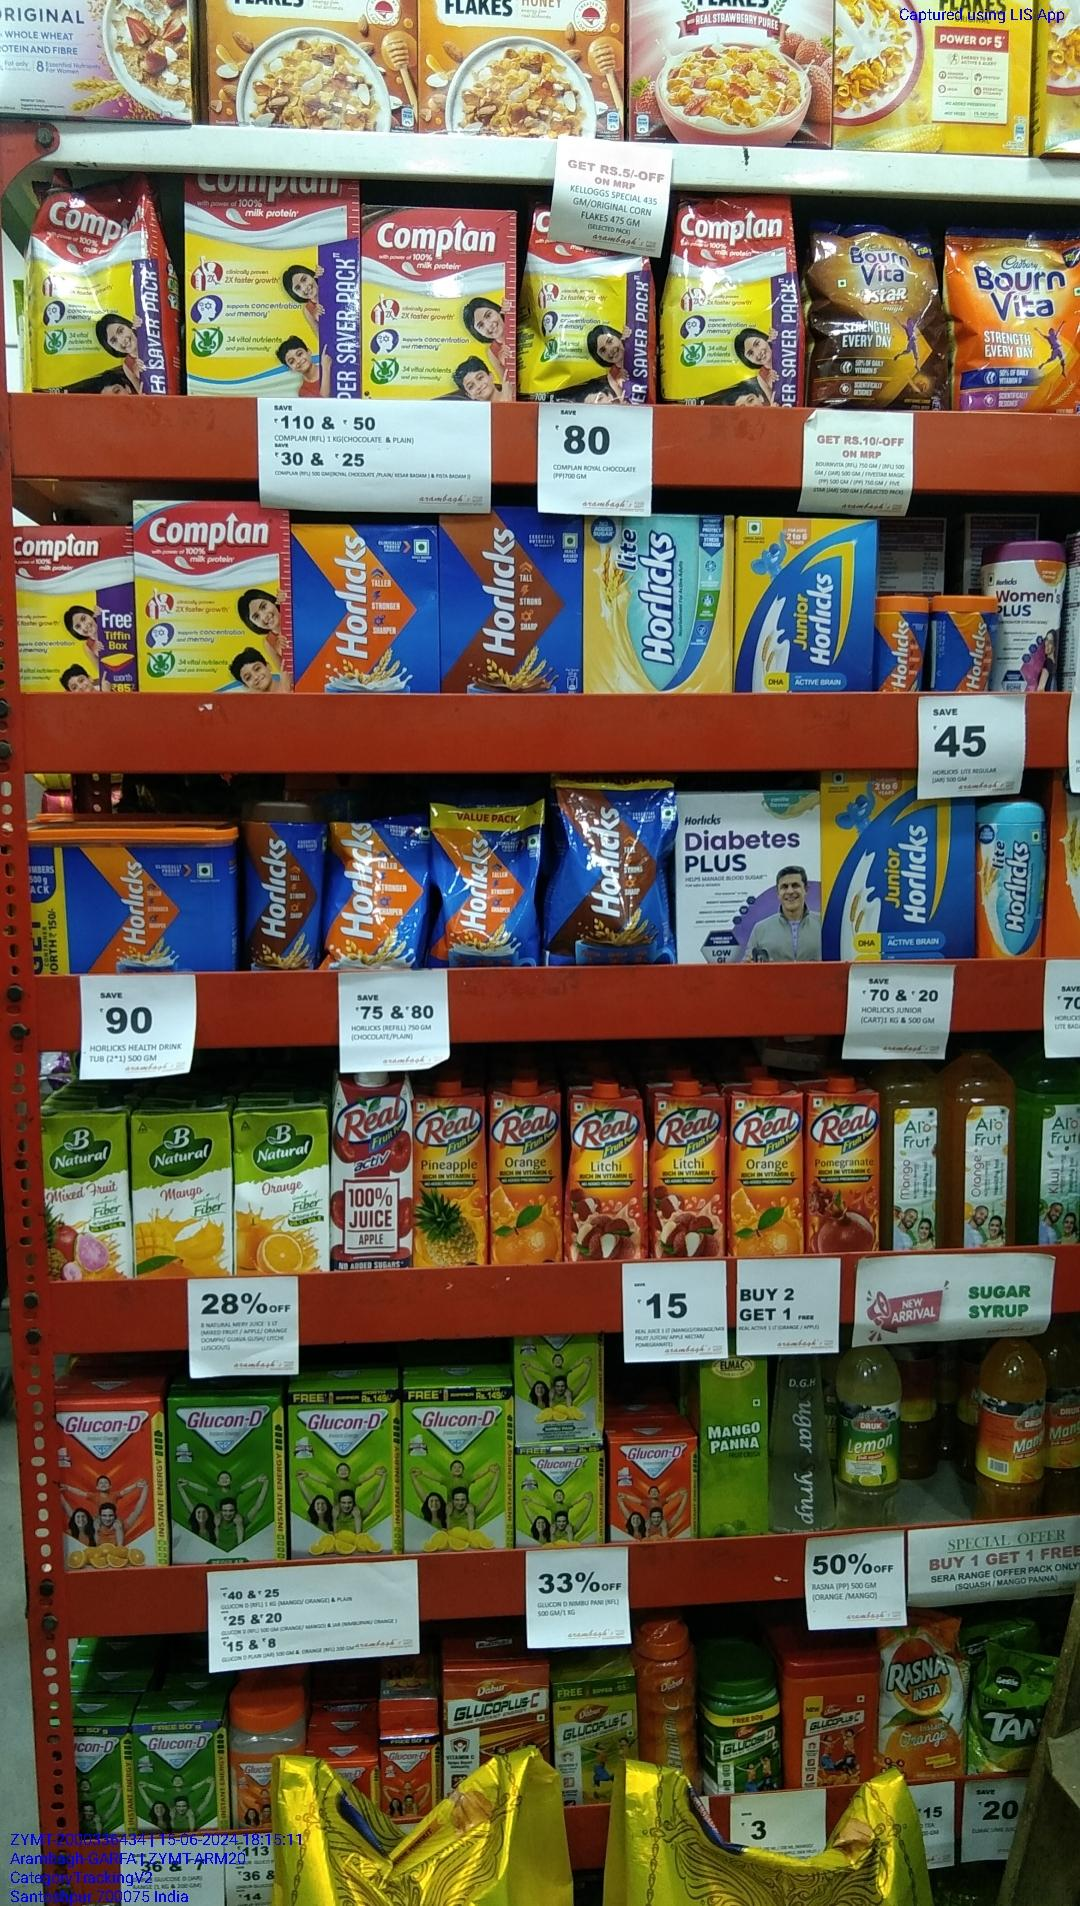BOURN_VITA_750_G_POUCH: (953, 236, 1080, 423)
BOURN_VITA_FIVE_STAR_MAGIC_750_G_POUCH: (810, 216, 944, 410)
COMPLAN_CREAMY_CLASSIC_500_G_PACK: (132, 501, 292, 694)
COMPLAN_RC_POUCH_700_GMS_12: (26, 175, 164, 402), (673, 200, 805, 407), (524, 221, 648, 403)
HORLICK_CHOCOLATE_500_G_JAR: (246, 800, 327, 974)
HORLICK_CHOCOLATE_750_G_POUCH: (442, 512, 580, 691), (551, 774, 675, 963)
HORLICK_CLASSIC_MALT_500_G_PACK: (295, 524, 437, 694)
HORLICK_MALT_1_KG_CONTAINER: (29, 822, 238, 977)
